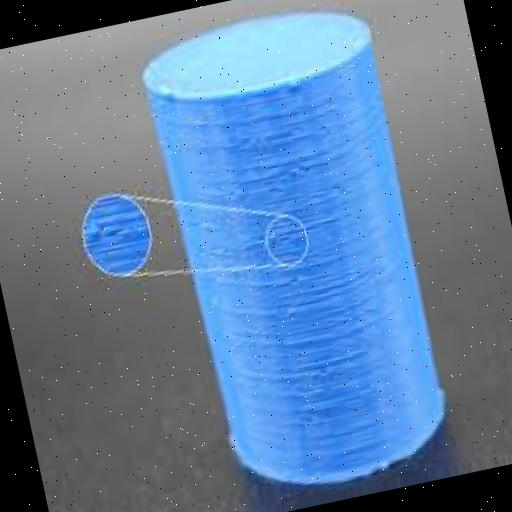blobs: (282, 310, 388, 378), (245, 130, 317, 204), (144, 76, 184, 118), (271, 73, 314, 101)
